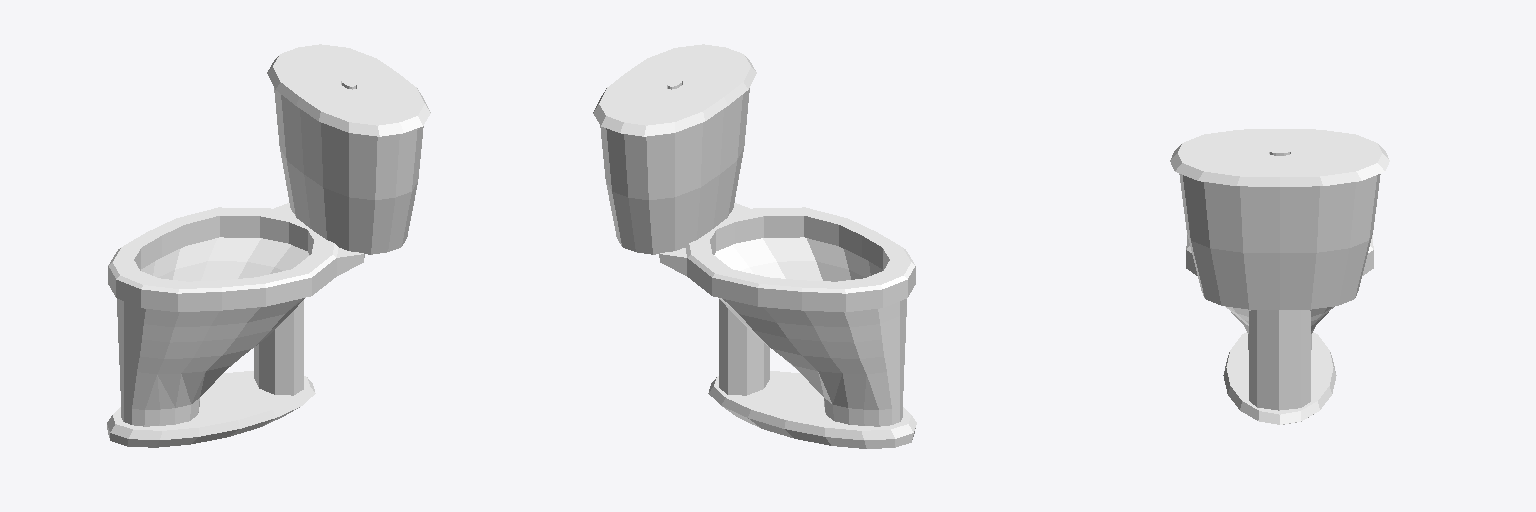
The model's file is toilet.obj.
3 views of the same model, side by side, from view 1: azimuth 30°, elevation 25°; view 2: azimuth 150°, elevation 25°; view 3: azimuth 270°, elevation 25° (orthographic).
Parts seen in each view (by area): view 1: toilet; view 2: toilet; view 3: toilet.
Part boxes in pixels (left/top/right/bottom): toilet: left=107, top=44, right=430, bottom=447; toilet: left=593, top=44, right=916, bottom=448; toilet: left=1170, top=129, right=1389, bottom=424.
Bounding box in the file's own units: 346 × 341 × 226.